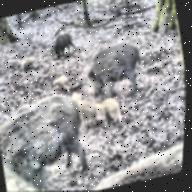boar: (73, 34, 162, 101)
